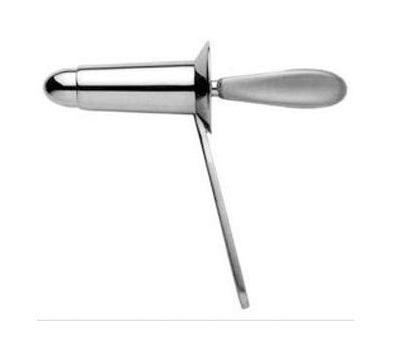Protoscope: (36, 35, 348, 314)
